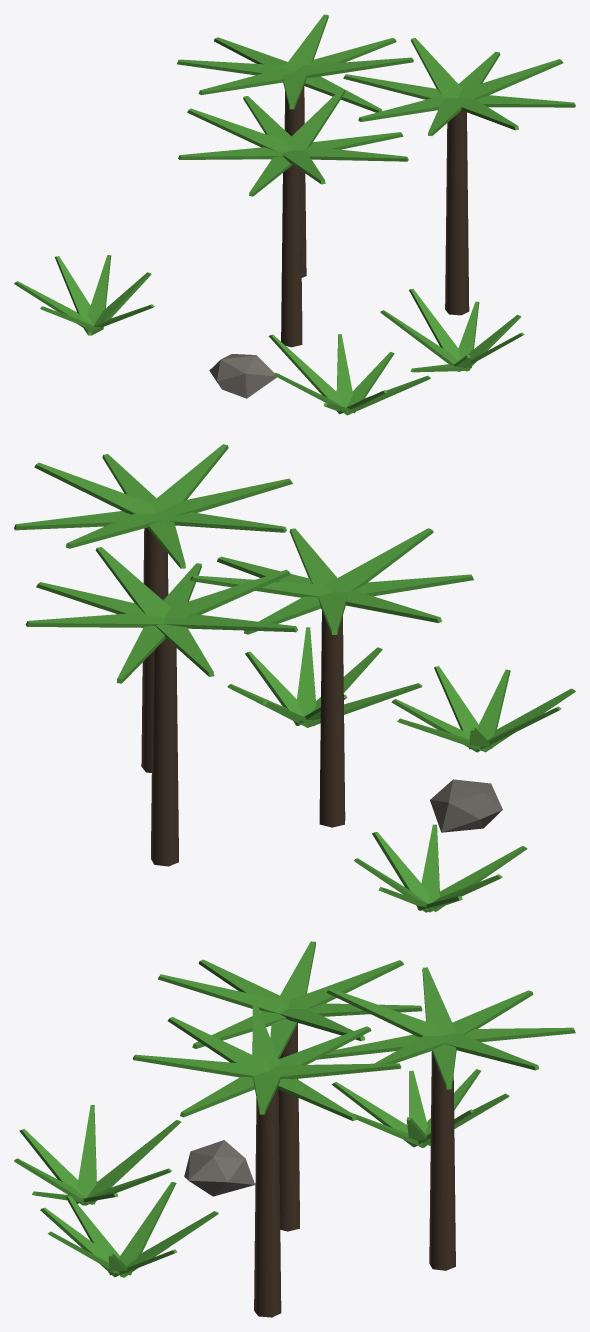
Rendered from sawyer_fern_gully_d.glb.
3 views of the same model, one above another, from view 1: azimuth 30°, elevation 25°; view 2: azimuth 150°, elevation 25°; view 3: azimuth 270°, elevation 25° (orthographic). The views are drawn at different scales.
Visible parts, largest first — view 1: treefern_0_trunk, treefern_2_trunk, rock_6_rock, treefern_1_trunk, treefern_2_frond6, treefern_0_frond4, treefern_1_frond6, treefern_2_frond4, treefern_0_frond6, treefern_2_frond2, treefern_2_frond7, treefern_0_frond7 (+27 smaller); view 2: treefern_1_trunk, treefern_2_trunk, rock_6_rock, treefern_0_trunk, treefern_2_frond1, treefern_0_frond4, treefern_1_frond4, treefern_1_frond0, treefern_1_frond6, treefern_0_frond1, treefern_0_frond2, treefern_1_frond3 (+26 smaller); view 3: treefern_0_trunk, treefern_1_trunk, treefern_2_trunk, rock_6_rock, treefern_2_frond1, treefern_1_frond4, treefern_0_frond6, treefern_2_frond6, treefern_0_frond2, treefern_0_frond1, treefern_1_frond0, fern_4_frond1 (+27 smaller).
Part boxes in pixels (left/top/right/bottom): treefern_0_trunk: left=445, top=110, right=469, bottom=315; treefern_2_trunk: left=281, top=165, right=302, bottom=347; rock_6_rock: left=209, top=354, right=276, bottom=398; treefern_1_trunk: left=284, top=86, right=306, bottom=277; treefern_2_frond6: left=187, top=108, right=291, bottom=151; treefern_0_frond4: left=457, top=59, right=563, bottom=99; treefern_1_frond6: left=295, top=57, right=413, bottom=77; treefern_2_frond4: left=286, top=89, right=345, bottom=150; treefern_0_frond6: left=411, top=38, right=462, bottom=98; treefern_2_frond2: left=305, top=146, right=408, bottom=161; treefern_2_frond7: left=178, top=147, right=290, bottom=159; treefern_0_frond7: left=343, top=74, right=442, bottom=99; treefern_1_trunk: left=151, top=638, right=178, bottom=866; treefern_2_trunk: left=319, top=611, right=345, bottom=827; rock_6_rock: left=430, top=779, right=502, bottom=832; treefern_0_trunk: left=141, top=527, right=168, bottom=772; treefern_2_frond1: left=325, top=528, right=433, bottom=592; treefern_0_frond4: left=34, top=462, right=155, bottom=514; treefern_1_frond4: left=165, top=569, right=290, bottom=618; treefern_1_frond0: left=25, top=612, right=164, bottom=627; treefern_1_frond6: left=95, top=547, right=170, bottom=617; treefern_0_frond1: left=156, top=478, right=292, bottom=516; treefern_0_frond2: left=151, top=444, right=228, bottom=513; treefern_1_frond3: left=163, top=614, right=297, bottom=632; treefern_0_trunk: left=254, top=1089, right=281, bottom=1317; treefern_1_trunk: left=429, top=1051, right=455, bottom=1270; treefern_2_trunk: left=278, top=1024, right=299, bottom=1231; rock_6_rock: left=184, top=1140, right=255, bottom=1196; treefern_2_frond1: left=158, top=974, right=287, bottom=1013; treefern_1_frond4: left=326, top=988, right=442, bottom=1037; treefern_0_frond6: left=268, top=1063, right=401, bottom=1079; treefern_2_frond6: left=288, top=960, right=403, bottom=1008; treefern_0_frond2: left=133, top=1054, right=266, bottom=1077; treefern_0_frond1: left=168, top=1017, right=268, bottom=1071; treefern_1_frond0: left=443, top=1032, right=539, bottom=1070; fern_4_frond1: left=118, top=1182, right=176, bottom=1275.
Bounding box in the file's own units: 4.28 × 2.1 × 4.05.
